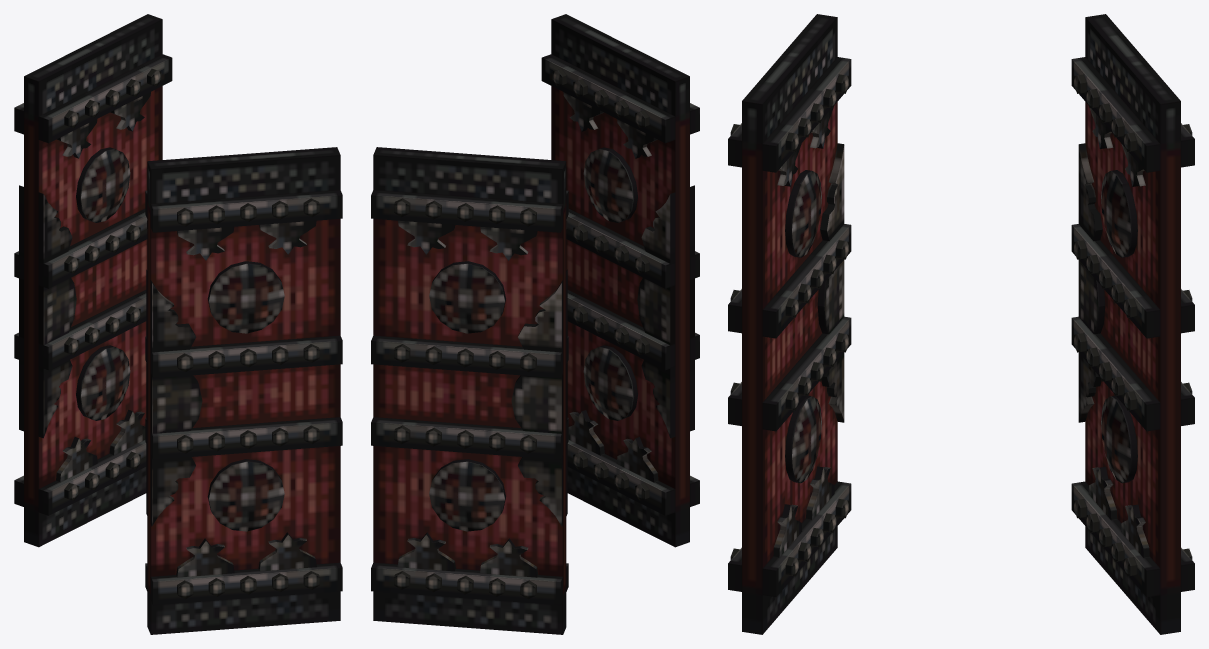
File: EnvBdgMD_Desert_Gate_A_Door_Open.FBX
3 renders of one model, left to right at view 1: azimuth 30°, elevation 25°; view 2: azimuth 150°, elevation 25°; view 3: azimuth 270°, elevation 25°, orthographic. The views are drawn at different scales.
Visible parts, largest first — view 1: EnvBdgMD_Desert_Gate_A_Door_Open; view 2: EnvBdgMD_Desert_Gate_A_Door_Open; view 3: EnvBdgMD_Desert_Gate_A_Door_Open.
Boxes of the visible parts, box(x1,y1,x2,y2) form: EnvBdgMD_Desert_Gate_A_Door_Open: box(14, 14, 342, 634); EnvBdgMD_Desert_Gate_A_Door_Open: box(371, 14, 699, 634); EnvBdgMD_Desert_Gate_A_Door_Open: box(728, 14, 1194, 634).
Size of the model in its own units: 153 by 400 by 319.
